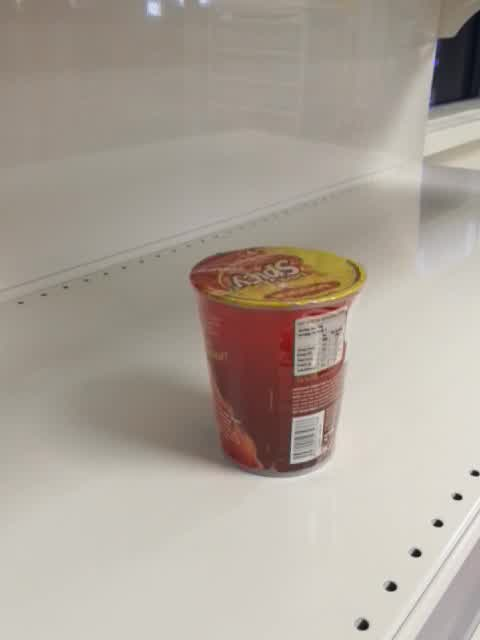maggi: (188, 246, 370, 479)
